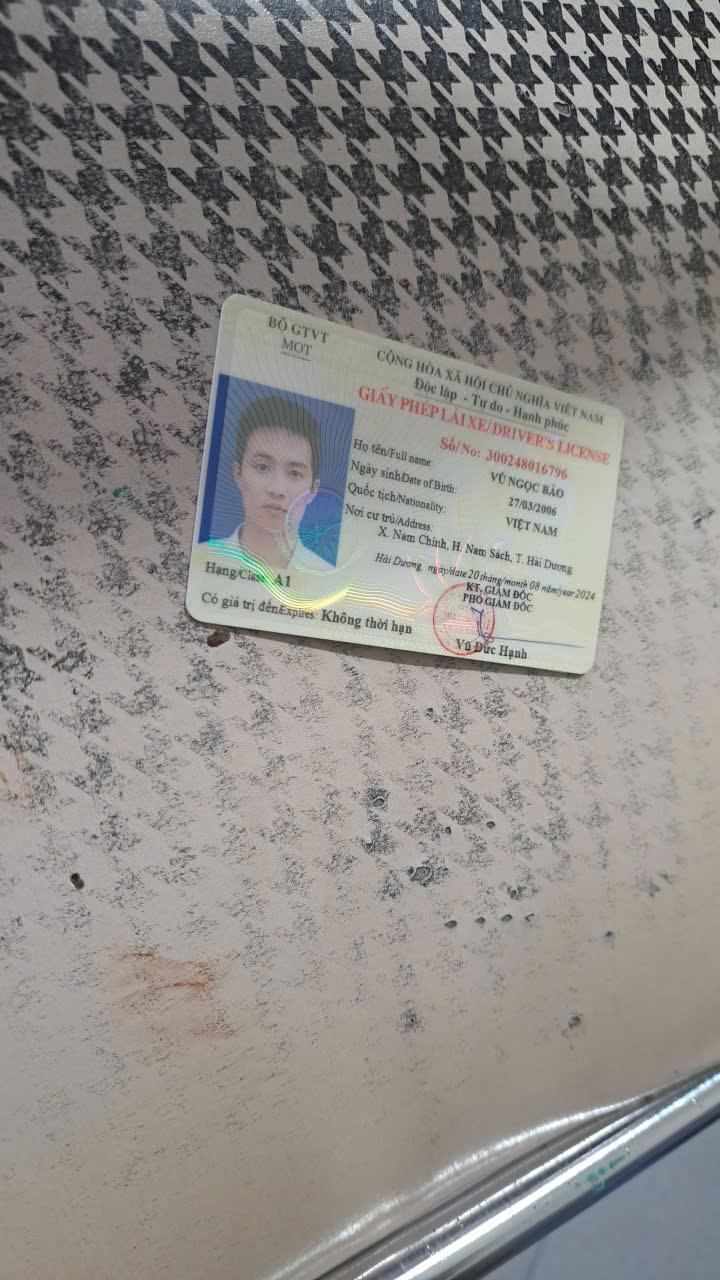gplx: (176, 285, 632, 687)
